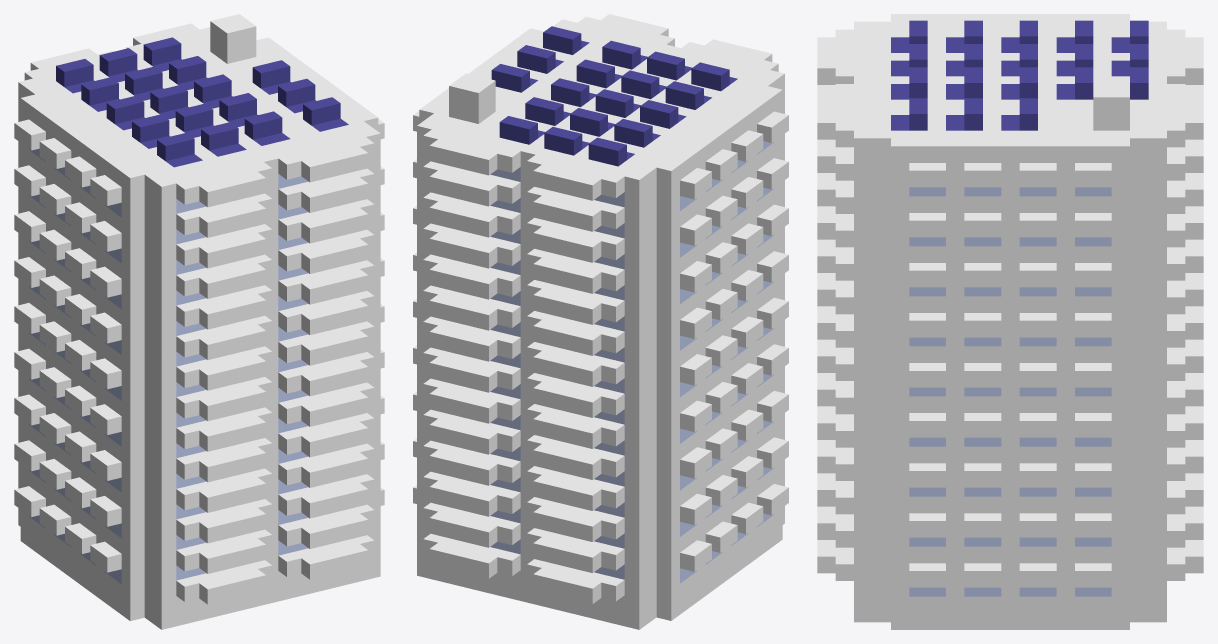
File: ungly flat.fbx
The picture shows the model from 3 angles, left to right: view 1: azimuth 30°, elevation 25°; view 2: azimuth 150°, elevation 25°; view 3: azimuth 270°, elevation 25°; orthographic projection. The views are drawn at different scales.
Visible parts, largest first — view 1: Layer.104; view 2: Layer.104; view 3: Layer.104.
Part boxes in pixels (x1=…): Layer.104: x1=14, y1=14, x2=384, y2=629; Layer.104: x1=413, y1=14, x2=788, y2=629; Layer.104: x1=817, y1=14, x2=1203, y2=629.
Bounding box in the file's own units: 2443 × 3986 × 2700.
1 material, 1 textured.
